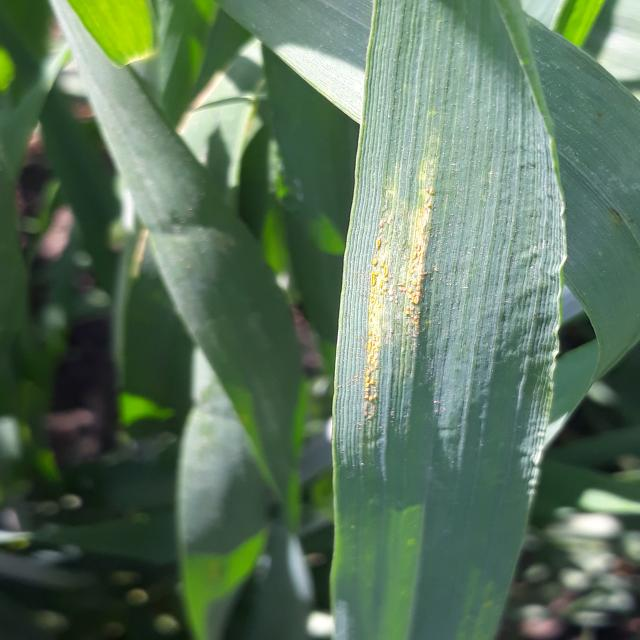yellow_rust: (304, 76, 579, 513), (117, 217, 169, 285)
